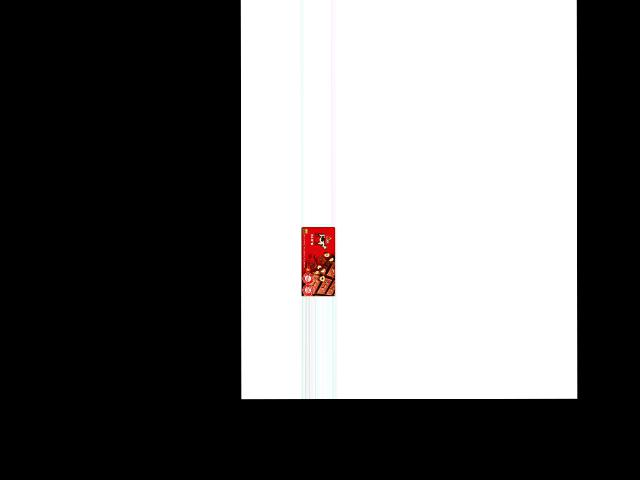chocolate: (300, 226, 335, 296)
